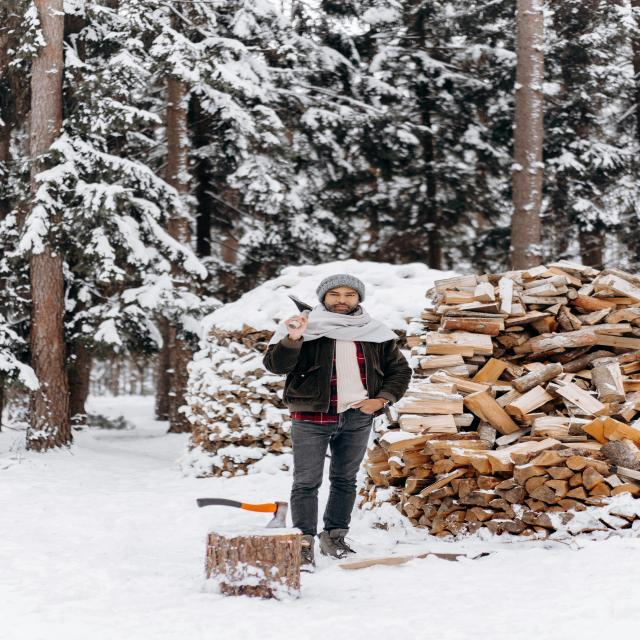Axe: (196, 498, 288, 528), (284, 295, 313, 341)
